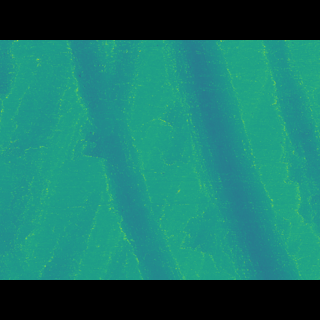Loch: (154, 71, 307, 250), (60, 69, 189, 249), (253, 69, 320, 217)
